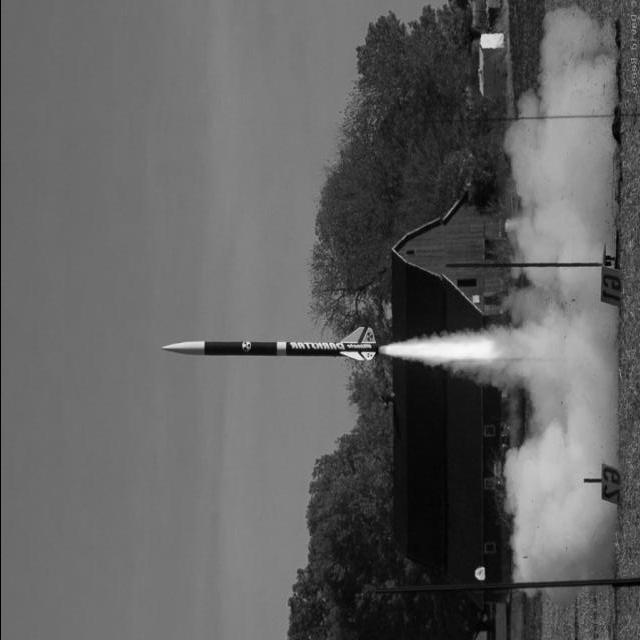missile: (163, 318, 380, 362)
